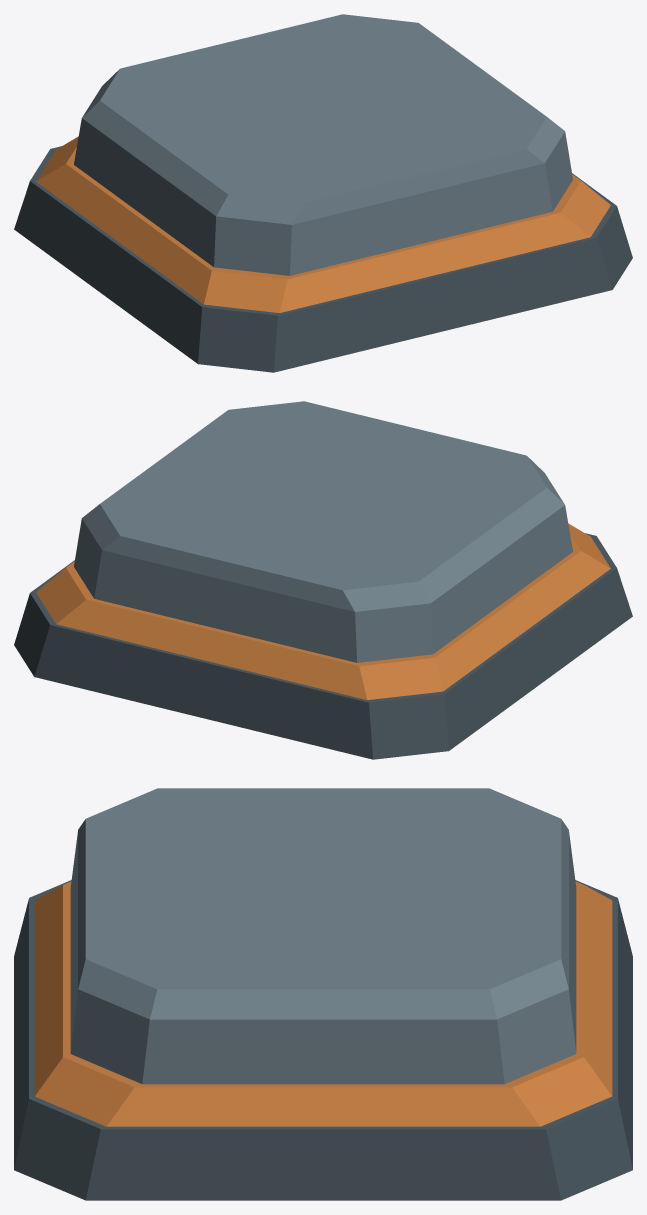
Rendered from e13-titan-crown-seat.glb.
The picture shows the model from 3 angles, top to bottom: view 1: azimuth 30°, elevation 25°; view 2: azimuth 150°, elevation 25°; view 3: azimuth 270°, elevation 25°; orthographic projection. The views are drawn at different scales.
Parts seen in each view (by area): view 1: Machined collectible seat, Seated crown base, Recessed amber welt; view 2: Machined collectible seat, Seated crown base, Recessed amber welt; view 3: Machined collectible seat, Seated crown base, Recessed amber welt.
Boxes of the visible parts, x1=… form: Machined collectible seat: x1=74, y1=14, x2=572, y2=275; Seated crown base: x1=14, y1=146, x2=632, y2=372; Recessed amber welt: x1=36, y1=136, x2=610, y2=312; Machined collectible seat: x1=74, y1=401, x2=572, y2=662; Seated crown base: x1=14, y1=533, x2=632, y2=759; Recessed amber welt: x1=36, y1=523, x2=610, y2=699; Machined collectible seat: x1=70, y1=788, x2=576, y2=1084; Seated crown base: x1=14, y1=880, x2=632, y2=1200; Recessed amber welt: x1=34, y1=881, x2=612, y2=1126.
Size of the model in its own units: 1.72 by 0.51 by 1.64.
